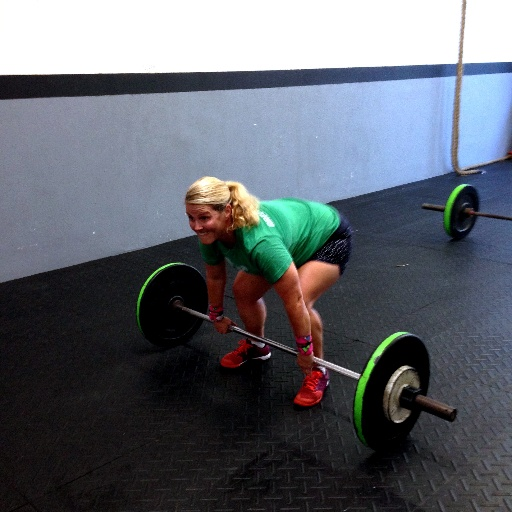hand: (295, 350, 318, 381), (213, 317, 235, 334)
